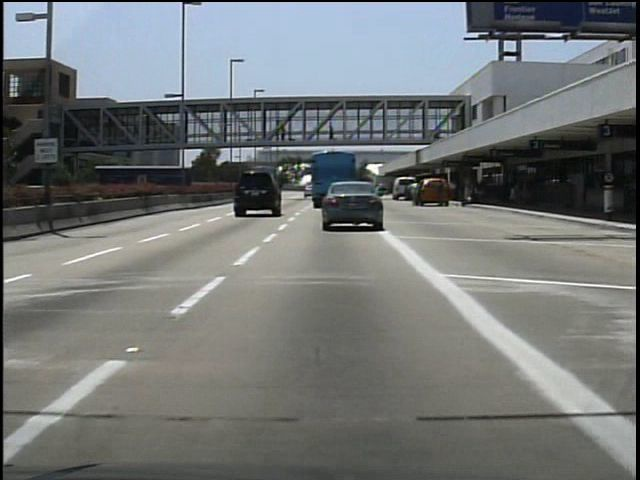person: (432, 177, 449, 211), (405, 179, 423, 209), (326, 122, 340, 149), (278, 120, 292, 141)
